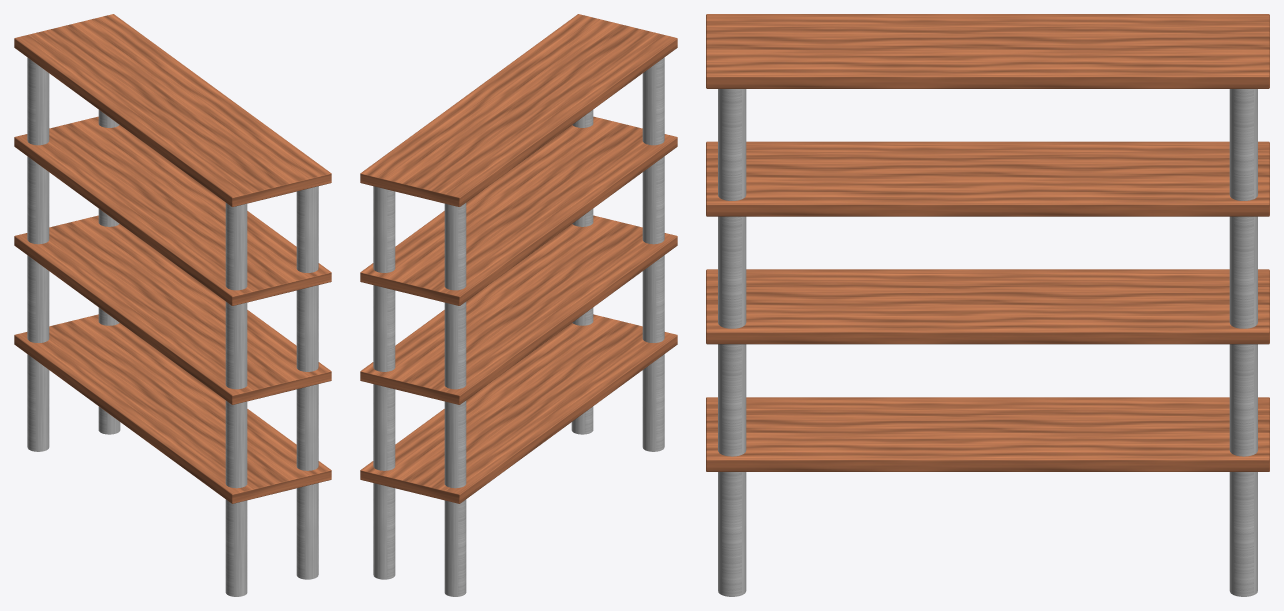
Rendered from shelf.fbx.
3 renders of one model, left to right at view 1: azimuth 30°, elevation 25°; view 2: azimuth 150°, elevation 25°; view 3: azimuth 270°, elevation 25°, orthographic. The views are drawn at different scales.
Visible parts, largest first — view 1: Pole, Plane.003, Plane, Plane.001, Plane.002; view 2: Pole, Plane.003, Plane, Plane.001, Plane.002; view 3: Plane.003, Plane.001, Plane.002, Plane, Pole.
Part boxes in pixels (x1,y1,x2,y2): Pole: (27,57,318,596); Plane.003: (14,14,331,206); Plane: (14,314,331,503); Plane.001: (14,215,331,404); Plane.002: (14,116,331,305); Pole: (373,57,664,596); Plane.003: (360,14,677,206); Plane: (360,314,677,503); Plane.001: (360,215,677,404); Plane.002: (360,116,677,305); Plane.003: (706,14,1269,88); Plane.001: (706,269,1269,344); Plane.002: (706,141,1269,216); Plane: (706,397,1269,471); Pole: (718,89,1257,596).
Bounding box in the file's own units: 52.84 × 205 × 200.
2 materials, 2 textured.
